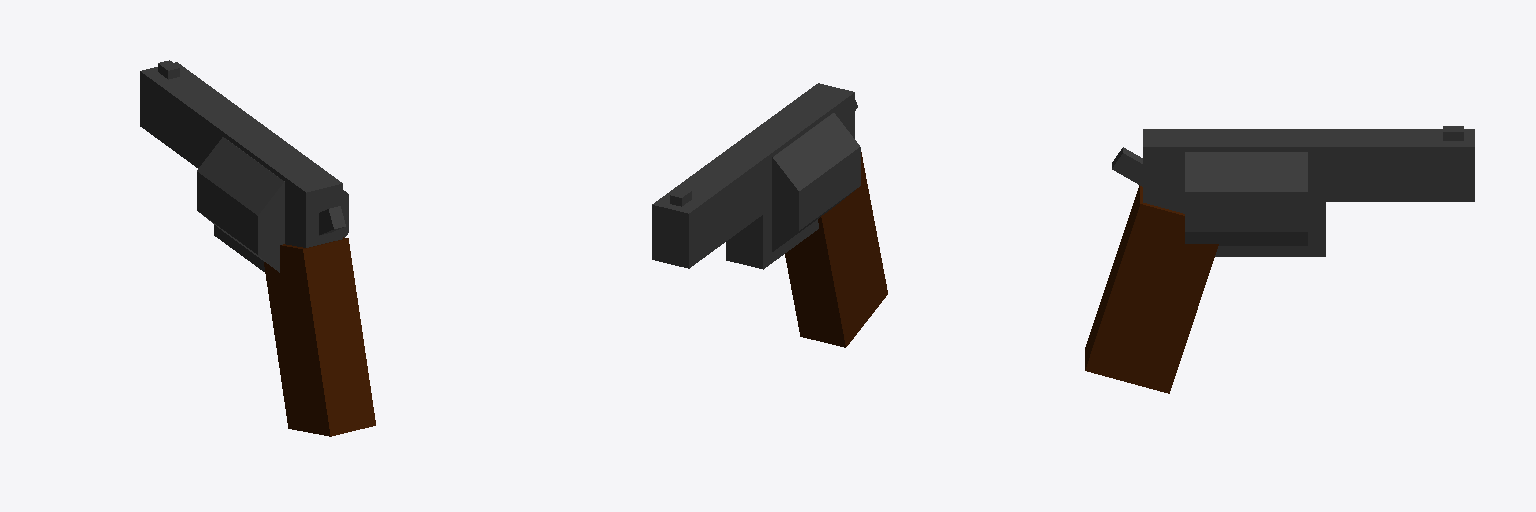
Rendered from gun.obj.
The picture shows the model from 3 angles: view 1: azimuth 30°, elevation 25°; view 2: azimuth 150°, elevation 25°; view 3: azimuth 270°, elevation 25°; orthographic projection.
Parts seen in each view (by area): view 1: Cube.003_Cube.004, Cube.004_Cube.005, Cylinder, Cube.002_Cube.007; view 2: Cube.004_Cube.005, Cube.003_Cube.004, Cylinder; view 3: Cube.004_Cube.005, Cube.003_Cube.004, Cylinder, Cube.002_Cube.007.
Part boxes in pixels (x1,y1,x2,y2): Cube.003_Cube.004: (264, 237, 375, 436); Cube.004_Cube.005: (140, 62, 342, 271); Cylinder: (197, 137, 348, 272); Cube.002_Cube.007: (319, 206, 345, 235); Cube.004_Cube.005: (652, 83, 854, 269); Cube.003_Cube.004: (785, 152, 887, 347); Cylinder: (772, 113, 860, 251); Cube.004_Cube.005: (1143, 129, 1474, 256); Cube.003_Cube.004: (1085, 185, 1218, 393); Cylinder: (1185, 152, 1307, 245); Cube.002_Cube.007: (1112, 147, 1142, 186).
Bounding box in the file's own units: 2.44 × 6.54 × 9.11.